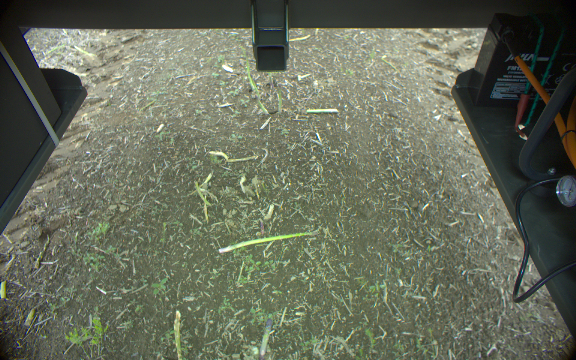aspa: (217, 229, 315, 256), (251, 313, 278, 360), (166, 309, 188, 360), (235, 46, 258, 92), (252, 94, 269, 119), (305, 106, 339, 117), (272, 86, 284, 113)
